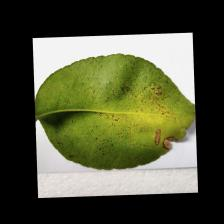canker: (116, 80, 182, 160)
